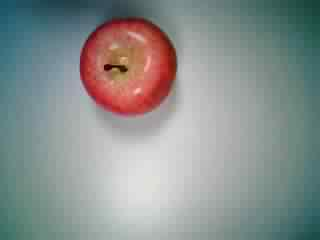apple: (74, 14, 179, 118)
